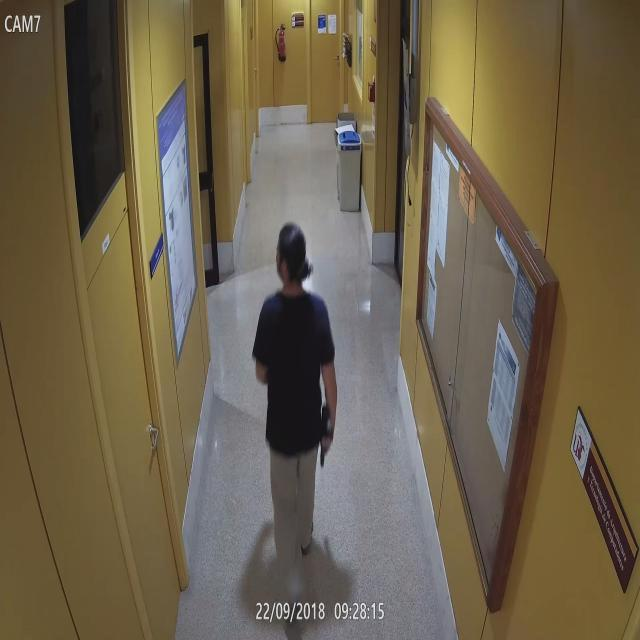weapon: (320, 407, 332, 468)
